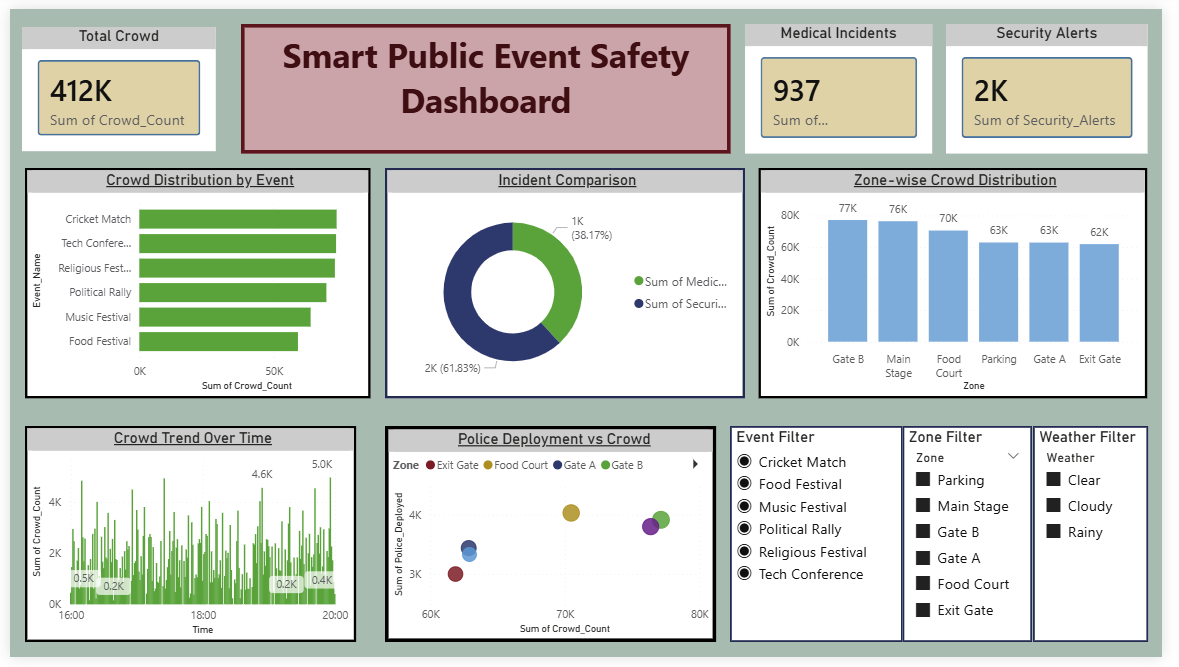

What the dashboard file says about the page in this screenshot:
{"tool":"powerbi","page":{"name":"Overview","canvas":[1280,720],"ordinal":0},"visuals":[{"type":"cardVisual","title":"Total Crowd","fields":{"Data":["Sum(Event_Safety_Data.Crowd_Count)"]},"box":[13.6,19.7,215,137.8],"z":0},{"type":"cardVisual","title":"Security Alerts","fields":{"Data":["Sum(Event_Safety_Data.Security_Alerts)"]},"box":[1040,16,224,144],"z":1000},{"type":"cardVisual","title":"Medical Incidents","fields":{"Data":["Sum(Event_Safety_Data.Medical_Incidents)"]},"box":[816,16,208,144],"z":2000},{"type":"clusteredBarChart","title":"Crowd Distribution by Event","fields":{"Category":["Event_Safety_Data.Event_Name"],"Y":["Sum(Event_Safety_Data.Crowd_Count)"]},"box":[16,176,384,256],"z":3000},{"type":"clusteredColumnChart","title":"Zone-wise Crowd Distribution","fields":{"Category":["Event_Safety_Data.Zone"],"Y":["Sum(Event_Safety_Data.Crowd_Count)"]},"box":[832,176,432,256],"z":4000},{"type":"lineStackedColumnComboChart","title":"Crowd Trend Over Time","fields":{"Y":["Sum(Event_Safety_Data.Crowd_Count)"],"Category":["Event_Safety_Data.Time"]},"box":[16,464,368,240],"z":5000},{"type":"listSlicer","title":"Event Filter","fields":{"Values":["Event_Safety_Data.Event_Name"]},"box":[800,464,192,240],"z":6000},{"type":"slicer","title":"Zone Filter","fields":{"Values":["Event_Safety_Data.Zone"]},"box":[992,464,144,240],"z":7000},{"type":"slicer","title":"Weather Filter","fields":{"Values":["Event_Safety_Data.Weather"]},"box":[1136,464,128,240],"z":8000},{"type":"donutChart","title":"Incident Comparison","fields":{"Y":["Sum(Event_Safety_Data.Medical_Incidents)","Sum(Event_Safety_Data.Security_Alerts)"]},"box":[416,176,400,256],"z":9000},{"type":"scatterChart","title":"Police Deployment vs Crowd","fields":{"X":["Sum(Event_Safety_Data.Crowd_Count)"],"Y":["Sum(Event_Safety_Data.Police_Deployed)"],"Size":["Sum(Event_Safety_Data.Medical_Incidents)"],"Series":["Event_Safety_Data.Zone"]},"box":[416,464,368,240],"z":10000},{"type":"textbox","box":[256,16,544,144],"z":11000}]}

Visuals, with their boxes in screenshot pixels (x1, y1, x2, y2), scaled from the page's 1280x720 canvas onto the 1179x667 screenshot:
"Total Crowd" cardVisual: <bbox>13, 18, 211, 146</bbox>
"Security Alerts" cardVisual: <bbox>958, 15, 1164, 148</bbox>
"Medical Incidents" cardVisual: <bbox>752, 15, 943, 148</bbox>
"Crowd Distribution by Event" clusteredBarChart: <bbox>15, 163, 368, 400</bbox>
"Zone-wise Crowd Distribution" clusteredColumnChart: <bbox>766, 163, 1164, 400</bbox>
"Crowd Trend Over Time" lineStackedColumnComboChart: <bbox>15, 430, 354, 652</bbox>
"Event Filter" listSlicer: <bbox>737, 430, 914, 652</bbox>
"Zone Filter" slicer: <bbox>914, 430, 1046, 652</bbox>
"Weather Filter" slicer: <bbox>1046, 430, 1164, 652</bbox>
"Incident Comparison" donutChart: <bbox>383, 163, 752, 400</bbox>
"Police Deployment vs Crowd" scatterChart: <bbox>383, 430, 722, 652</bbox>
textbox: <bbox>236, 15, 737, 148</bbox>
